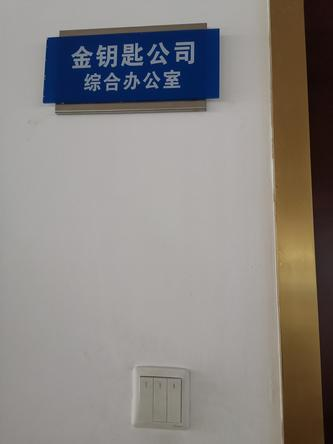switch: (163, 376, 186, 424), (136, 373, 156, 422), (152, 374, 169, 422)
